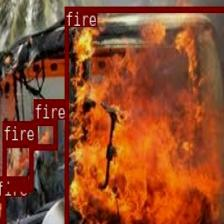fire: (64, 6, 224, 224), (2, 140, 33, 190), (33, 119, 57, 148), (0, 196, 4, 222)
